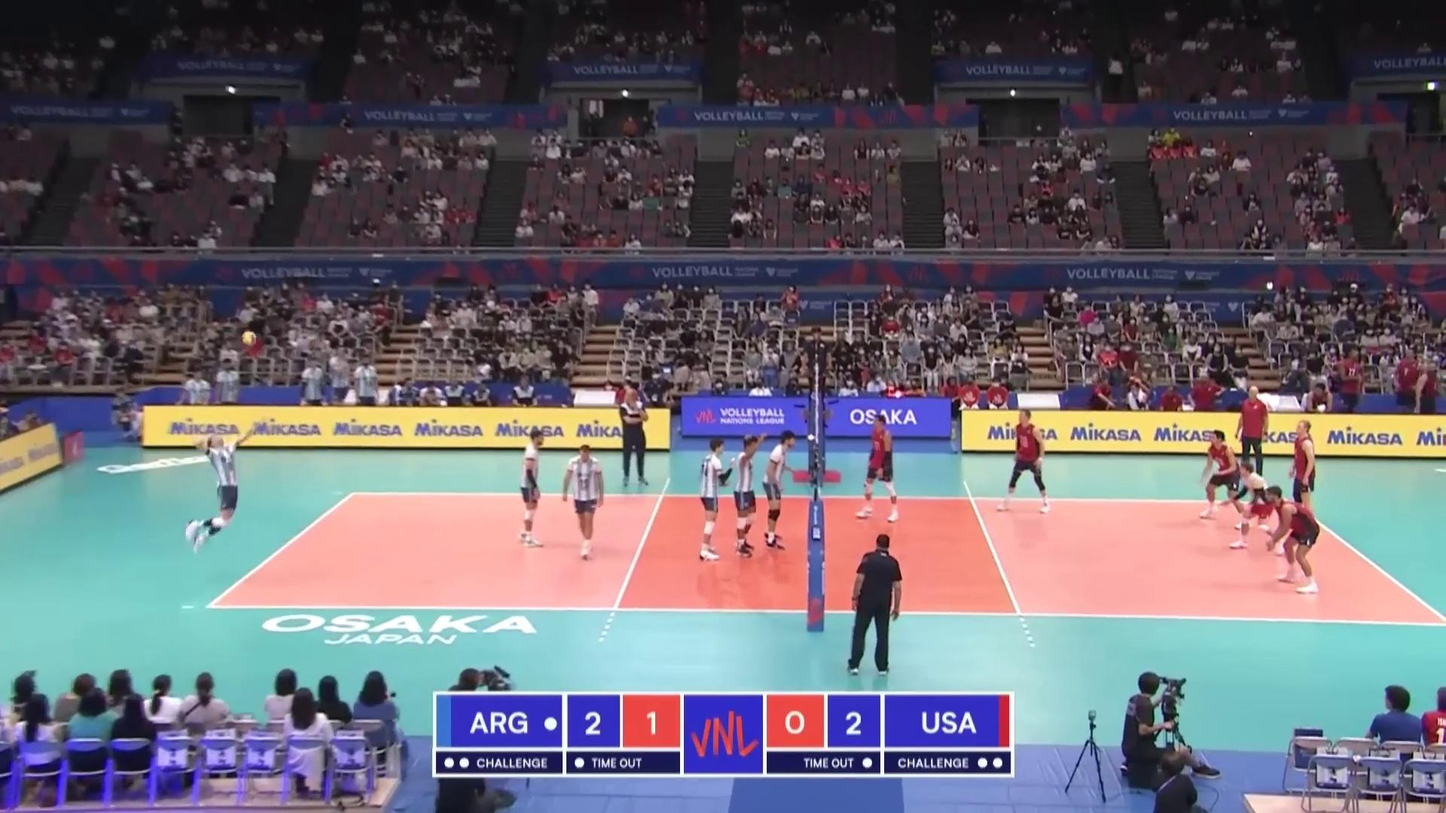player: (188, 430, 265, 548), (1265, 485, 1321, 597), (996, 411, 1051, 511), (857, 415, 902, 522), (1199, 428, 1247, 526), (1232, 463, 1282, 555), (697, 438, 734, 562), (563, 445, 603, 559), (764, 432, 798, 554), (734, 434, 767, 556), (1289, 419, 1317, 538), (520, 430, 548, 548)
refree: (844, 534, 904, 675), (801, 327, 833, 407)
